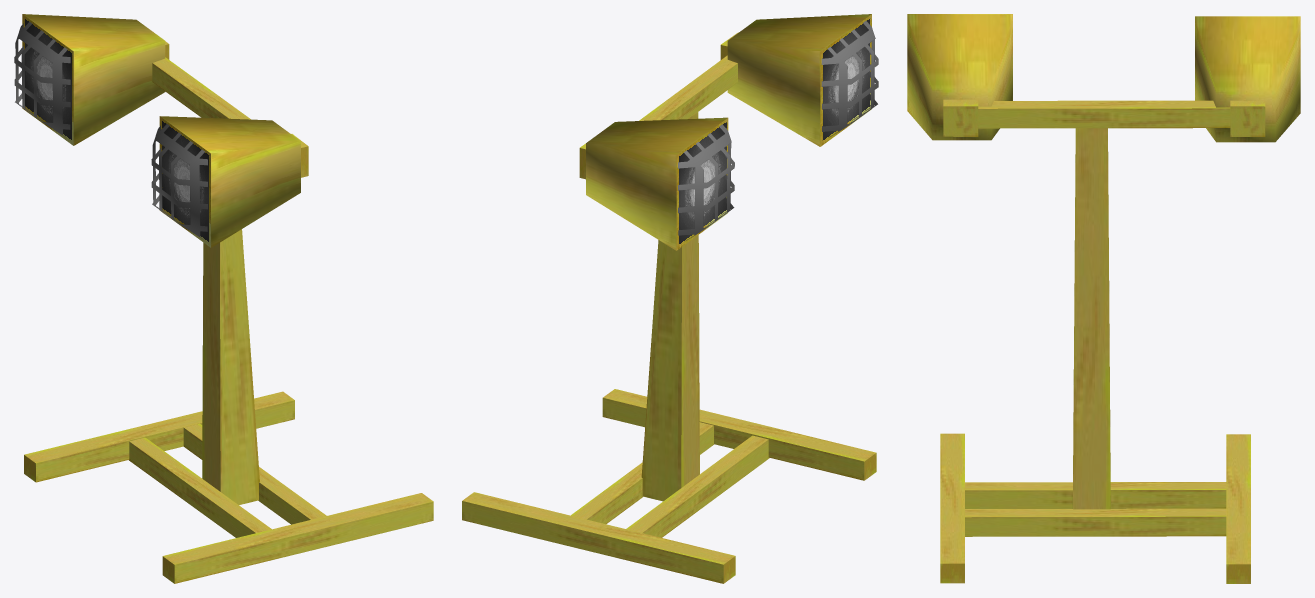
The model's file is floodlightalpha.obj.
3 views of the same model, side by side, from view 1: azimuth 30°, elevation 25°; view 2: azimuth 150°, elevation 25°; view 3: azimuth 270°, elevation 25° (orthographic). The views are drawn at different scales.
Parts seen in each view (by area): view 1: polls, light, glow, mesh; view 2: polls, light, glow, mesh; view 3: polls, light.
Boxes of the visible parts, <box> form: polls: <box>24,41,433,583</box>; light: <box>23,14,300,247</box>; glow: <box>22,14,210,247</box>; mesh: <box>14,21,207,239</box>; polls: <box>462,32,876,583</box>; light: <box>586,14,871,250</box>; glow: <box>676,14,871,250</box>; mesh: <box>678,21,878,240</box>; polls: <box>940,99,1265,583</box>; light: <box>907,14,1300,142</box>.
Size of the model in its own units: 23.97 by 38.69 by 30.58.
3 materials, 3 textured.
